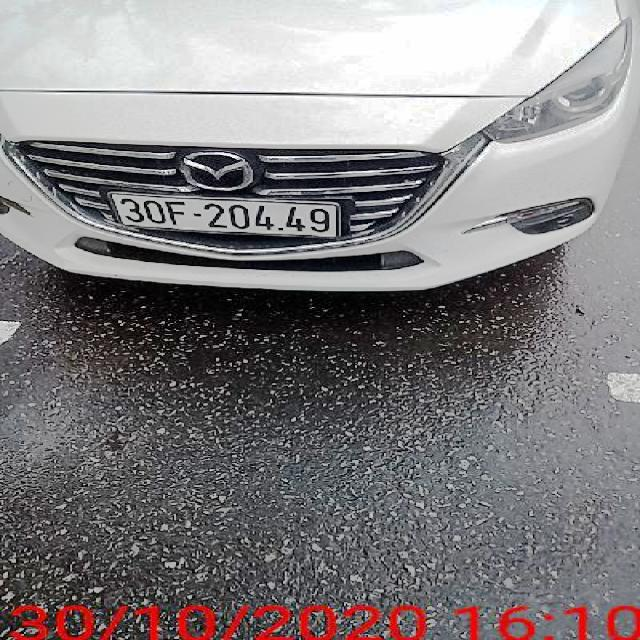license_plate: (110, 196, 339, 239)
